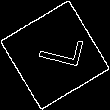L_W: (27, 34, 83, 76)
